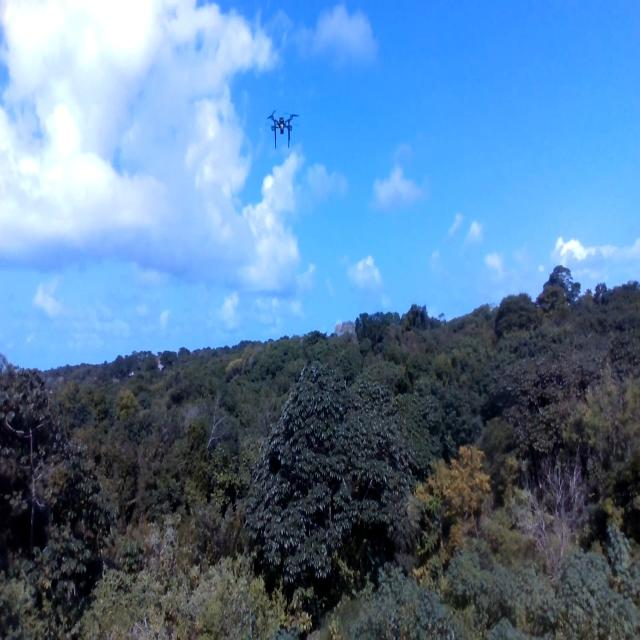-uav-: (256, 99, 312, 154)
